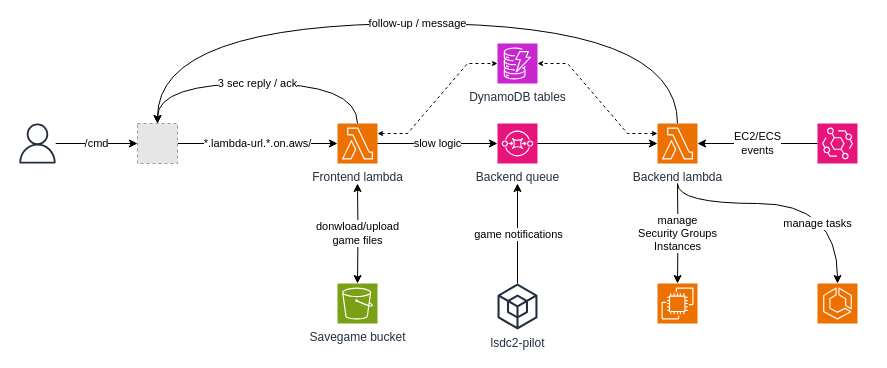
Some shapes in this 887 by 368 pixel diagram are drawn without their labels. Grey dashed boxes stand in for pictures. The shapes that lost their labels are listed below. From the top down, each one's centre as x and y in pixels, then its label:
the point at 837,143: EventBridge
the point at 677,303: EC2
the point at 837,303: ECS
